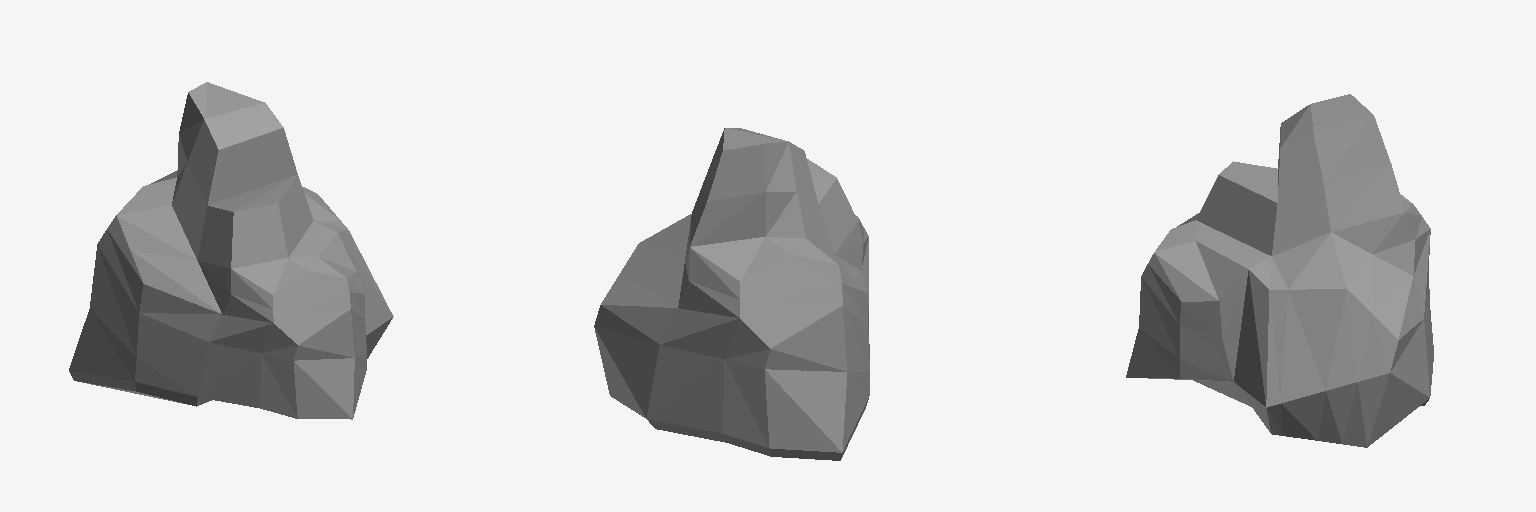
The model's file is Rock_2.obj.
The picture shows the model from 3 angles: view 1: azimuth 30°, elevation 25°; view 2: azimuth 150°, elevation 25°; view 3: azimuth 270°, elevation 25°; orthographic projection.
Parts seen in each view (by area): view 1: Rock_2_Cube.002; view 2: Rock_2_Cube.002; view 3: Rock_2_Cube.002.
Boxes of the visible parts, x1=… form: Rock_2_Cube.002: x1=69, y1=82, x2=393, y2=419; Rock_2_Cube.002: x1=594, y1=128, x2=869, y2=460; Rock_2_Cube.002: x1=1126, y1=94, x2=1433, y2=447.
Size of the model in its own units: 1.05 by 1.12 by 1.08.